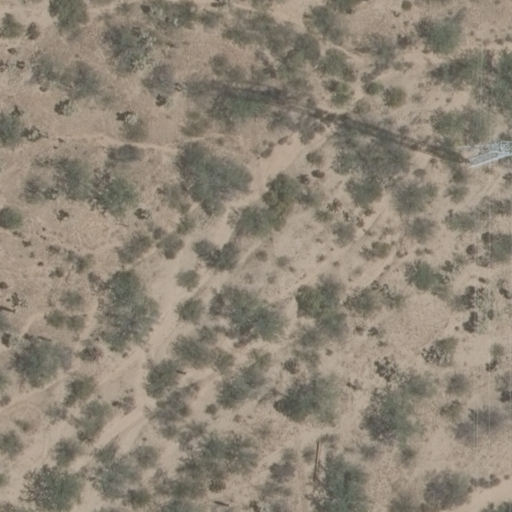TT: (449, 123, 512, 172)
